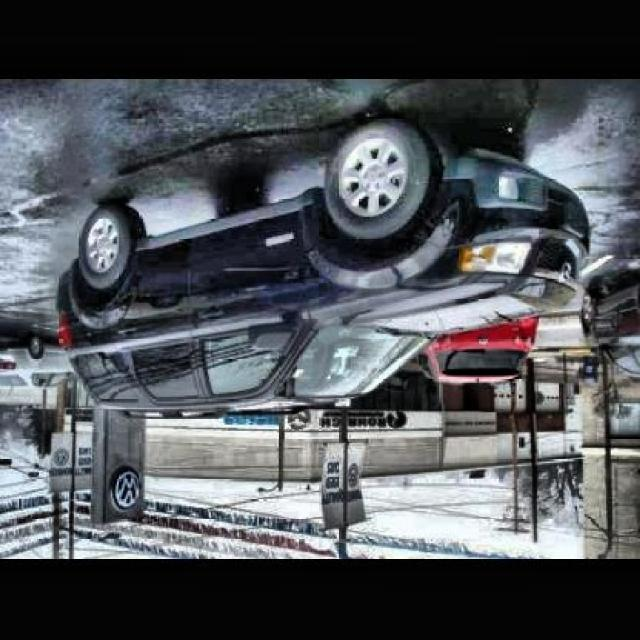black: (53, 122, 591, 411)
red: (422, 311, 538, 383)
